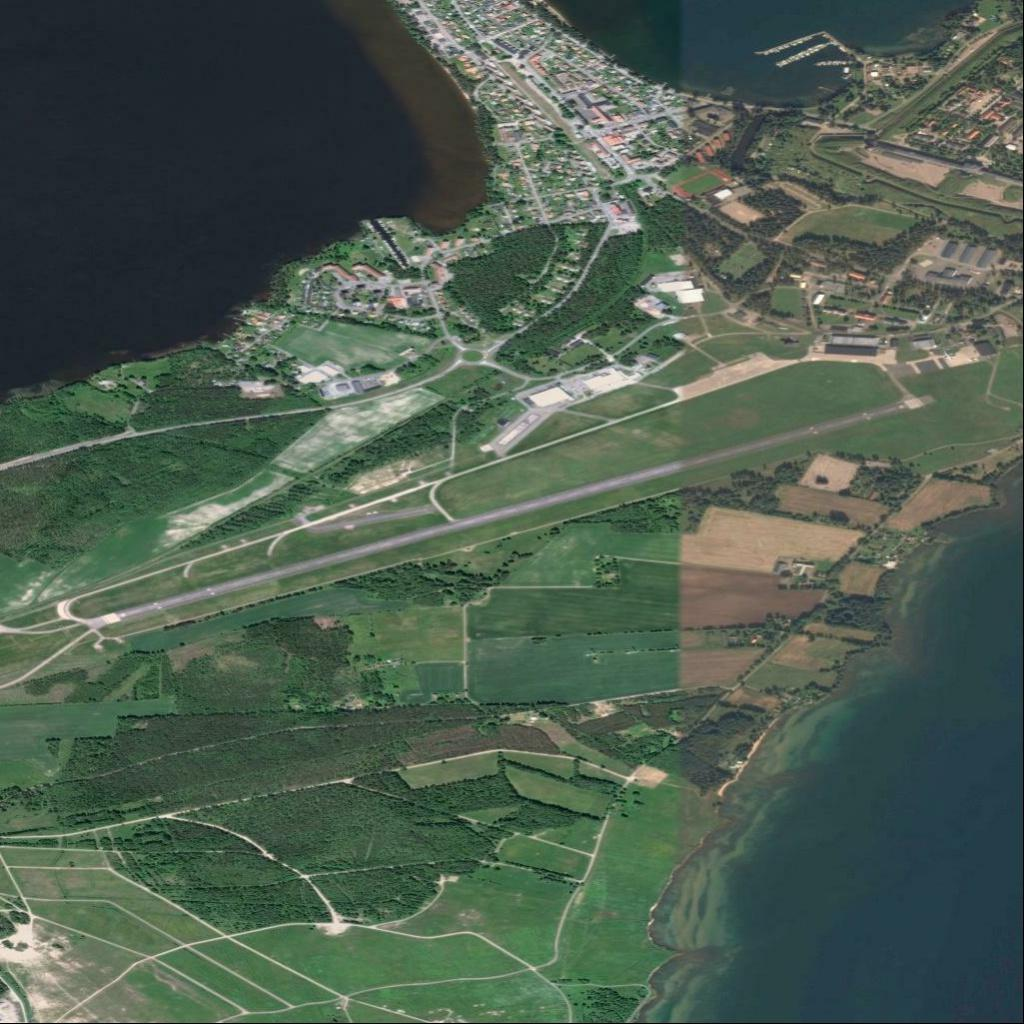harbor: (754, 30, 827, 57), (777, 40, 836, 68), (824, 31, 862, 59), (816, 60, 860, 68)
